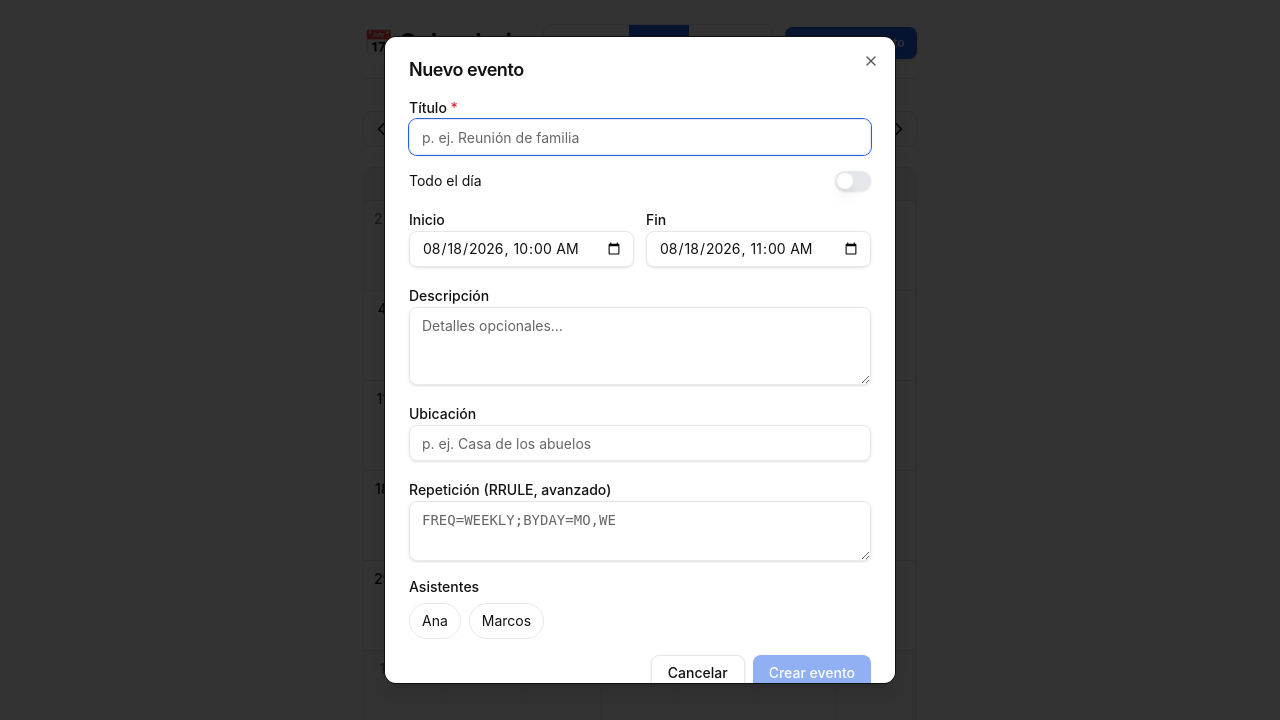
Test: CalendarView — modal de evento › el botón "Crear evento" se habilita al escribir un título
Type "Cumpleaños" into the field labelled "Título *" at (640, 137), box [409,119,871,155]
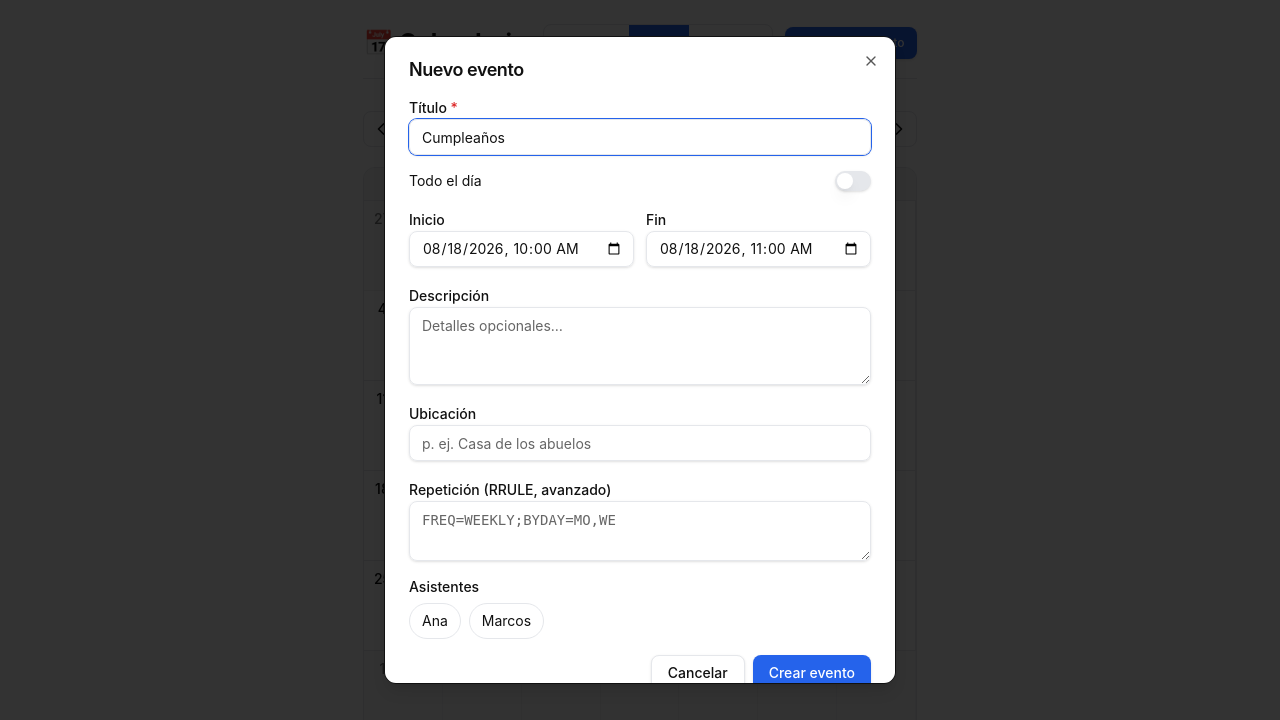
Check: the button "Crear evento" is enabled, box [753,655,871,684]
